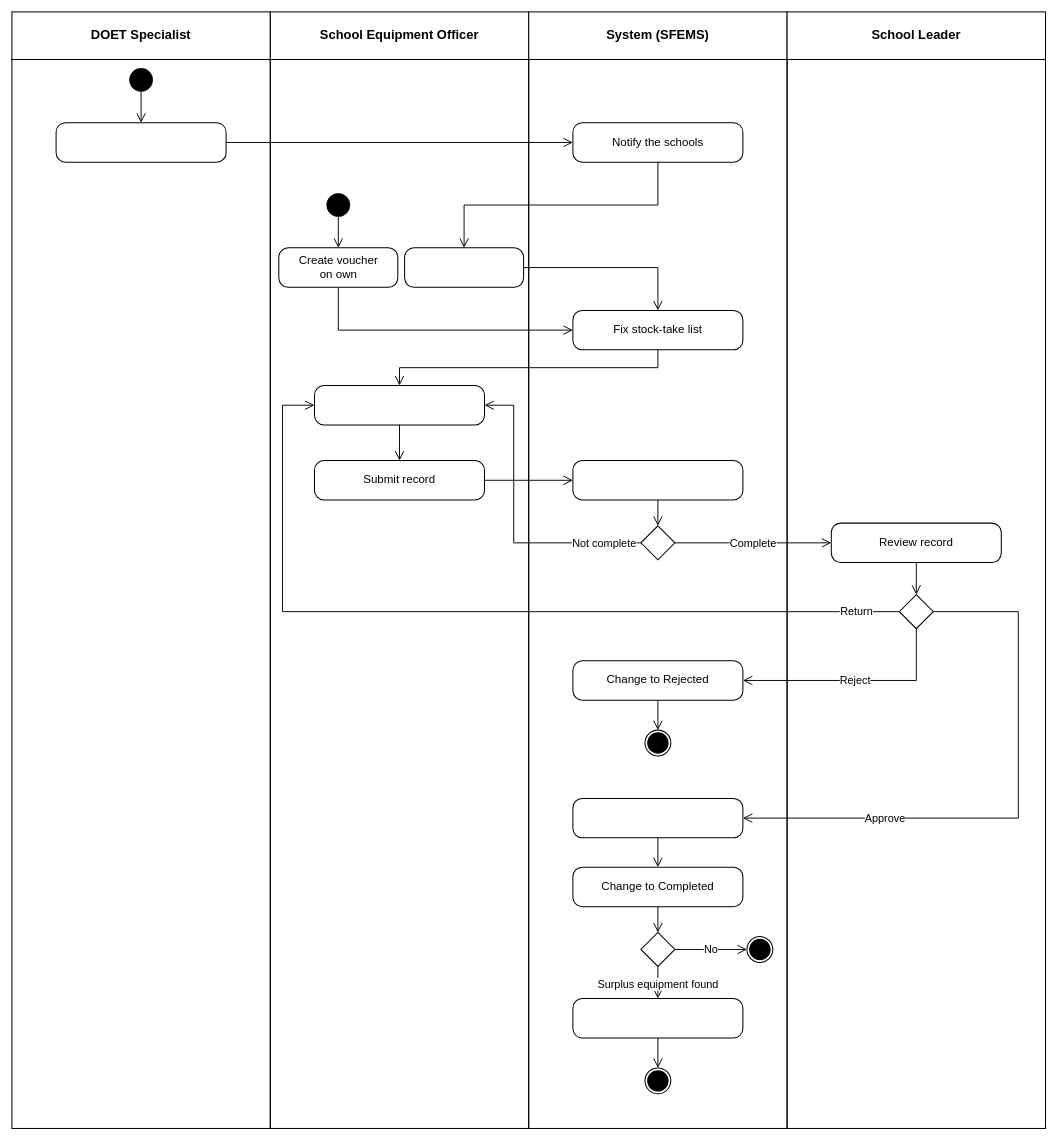
Image size: 1058x1141. Some labels were removed from this diagram. The shapes that lost their labels are listed below. From the top down, each one's box as (x1, y1, x2, y2) in pixels, then its label:
(55, 122, 226, 162): Start stock-take campaign
(404, 247, 524, 288): Create for campaign
(314, 385, 485, 425): Enter count results
(572, 460, 743, 500): Check record
(572, 798, 743, 838): Update equipment register
(572, 998, 743, 1038): Create intake voucher (BF-02)
